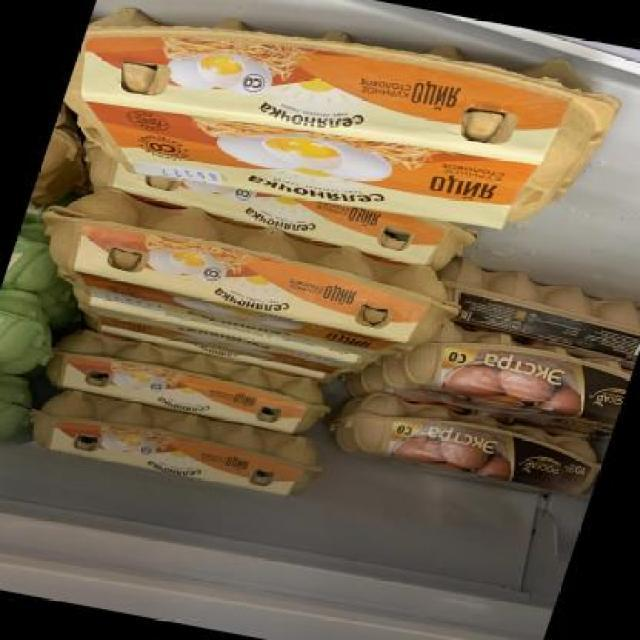Egg: (46, 0, 639, 255), (10, 185, 482, 371), (17, 385, 333, 504), (321, 388, 610, 506), (38, 326, 342, 438), (382, 316, 636, 436), (0, 289, 68, 383), (1, 221, 65, 297), (0, 371, 42, 452)
